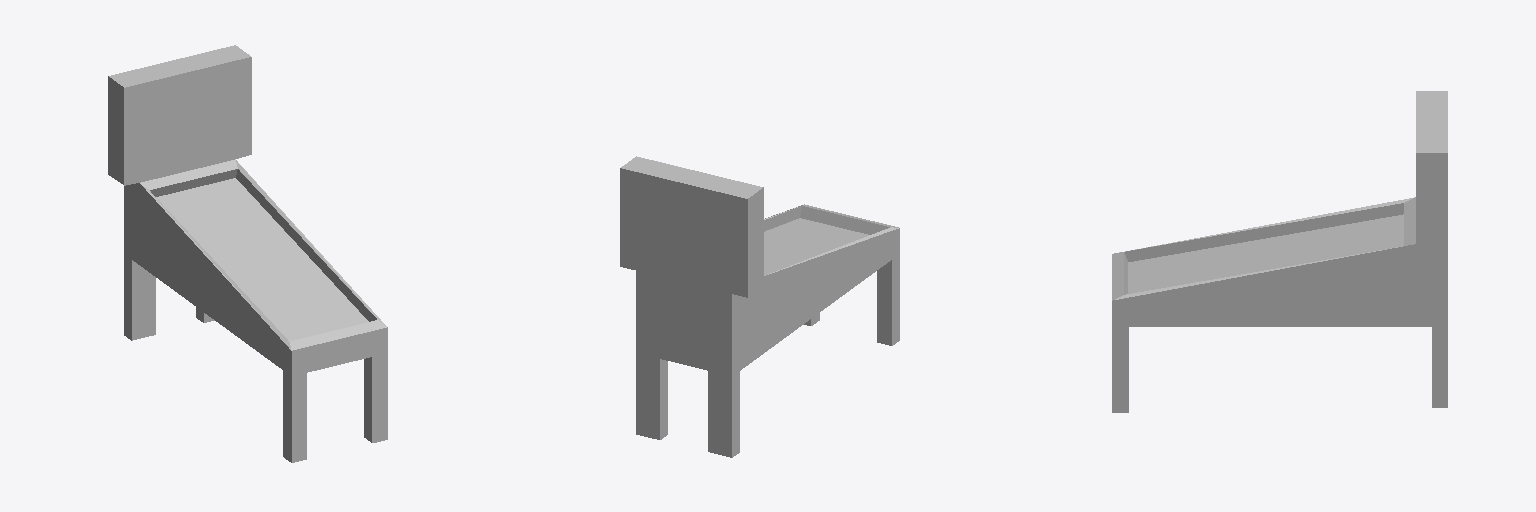
Rendered from pinball.obj.
3 renders of one model, left to right at view 1: azimuth 30°, elevation 25°; view 2: azimuth 150°, elevation 25°; view 3: azimuth 270°, elevation 25°, orthographic.
Visible parts, largest first — view 1: Cube; view 2: Cube; view 3: Cube.
Boxes of the visible parts, <box> form: Cube: <box>108,45,387,462</box>; Cube: <box>620,156,899,457</box>; Cube: <box>1112,91,1447,412</box>.
Size of the model in its own units: 2.65 by 5.33 by 6.06.